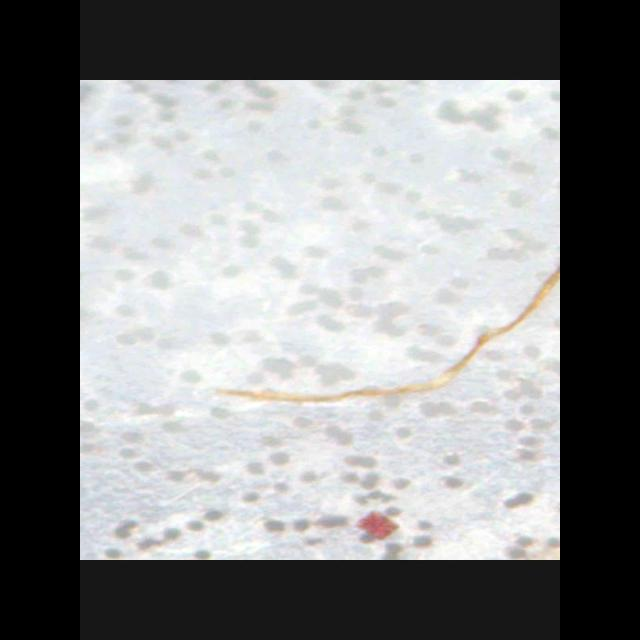Fibre: (216, 250, 560, 406)
